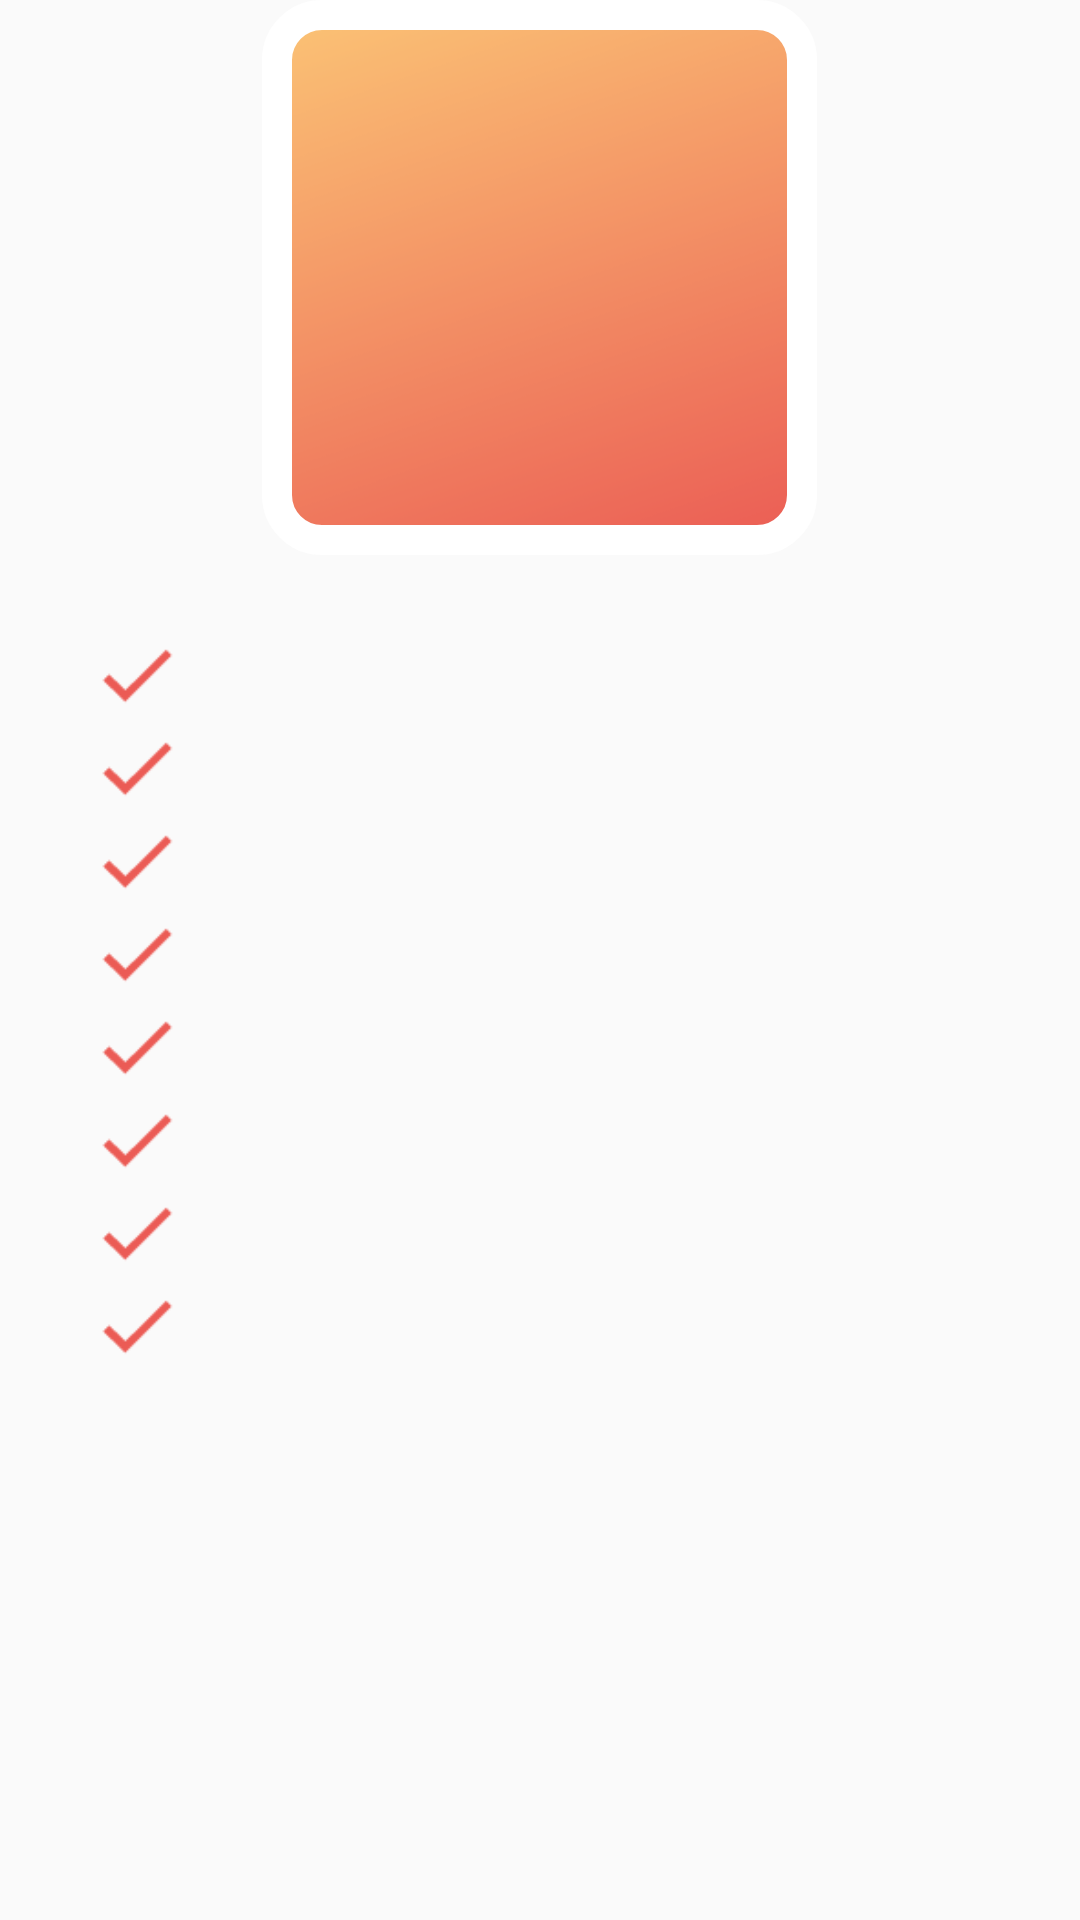

Icons on this 1080w x 1920h Android screen, each with its box as (x1, y1, x2, y2):
check: (103, 650, 172, 702), (103, 743, 172, 795), (103, 836, 172, 888), (103, 929, 172, 981), (103, 1022, 172, 1074), (103, 1115, 172, 1167), (103, 1208, 172, 1260), (103, 1301, 172, 1353)
